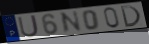0: (81, 9, 101, 31), (102, 7, 121, 30)
6: (41, 12, 60, 37)
D: (119, 5, 142, 28)
N: (60, 10, 83, 35)
U: (17, 14, 40, 39)
